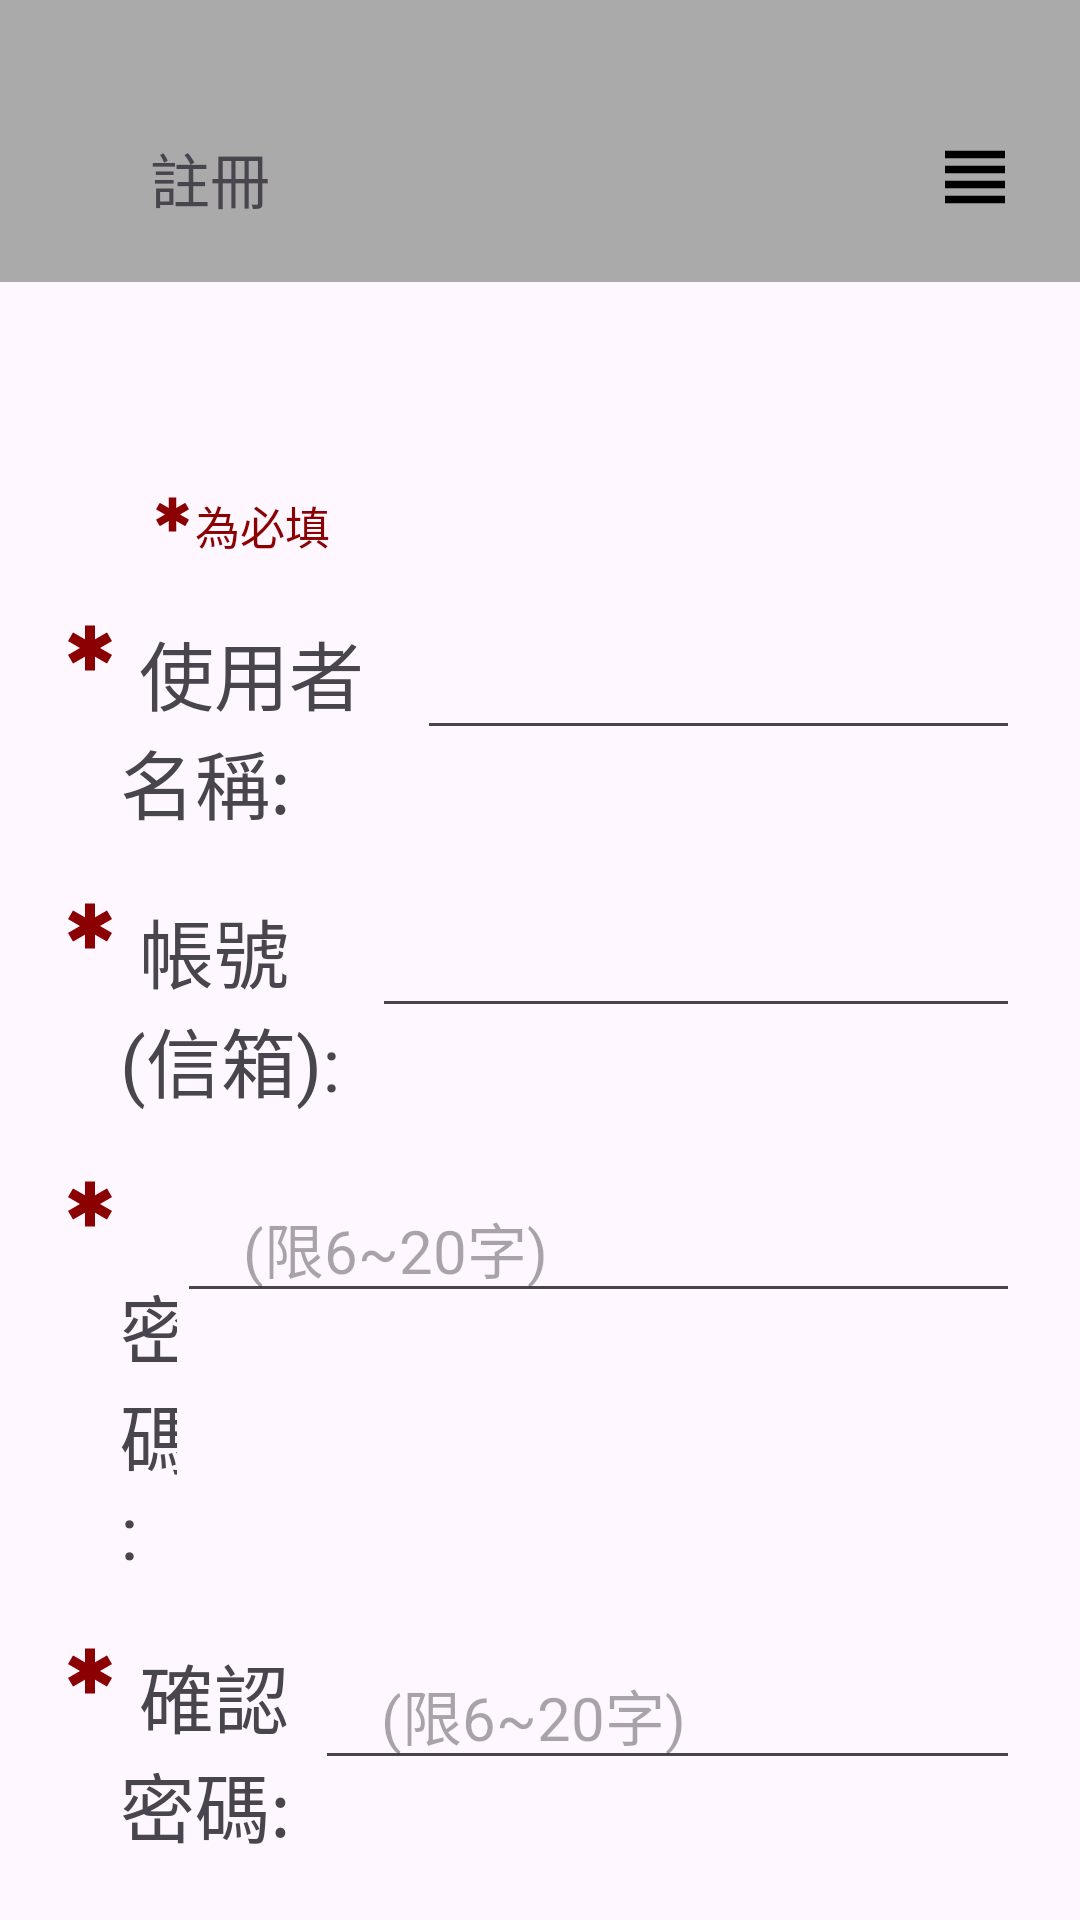

Icons on this 1080px×1920px Android screen, each with its box as (x1, y1, x2, y2):
其他: (945, 150, 1005, 204)
